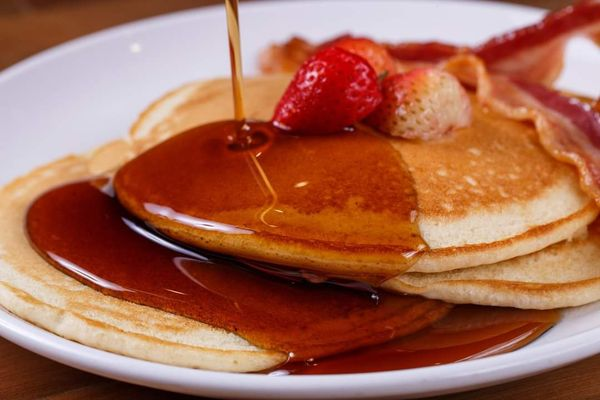soup: (104, 34, 600, 293)
